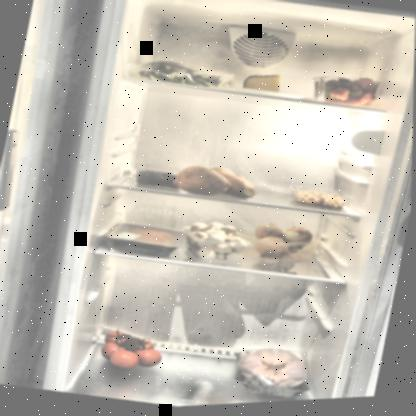beef: (112, 218, 181, 260)
blueberries: (134, 165, 183, 194)
cheese: (241, 70, 285, 101)
chicken: (229, 341, 322, 405)
green_beans: (130, 50, 241, 100)
mushrooms: (176, 214, 259, 273)
onion: (251, 221, 313, 264)
shrimp: (287, 188, 350, 219)
strawberries: (309, 72, 384, 119)
sweet_potato: (166, 156, 267, 212)
tomato: (97, 325, 170, 381)
